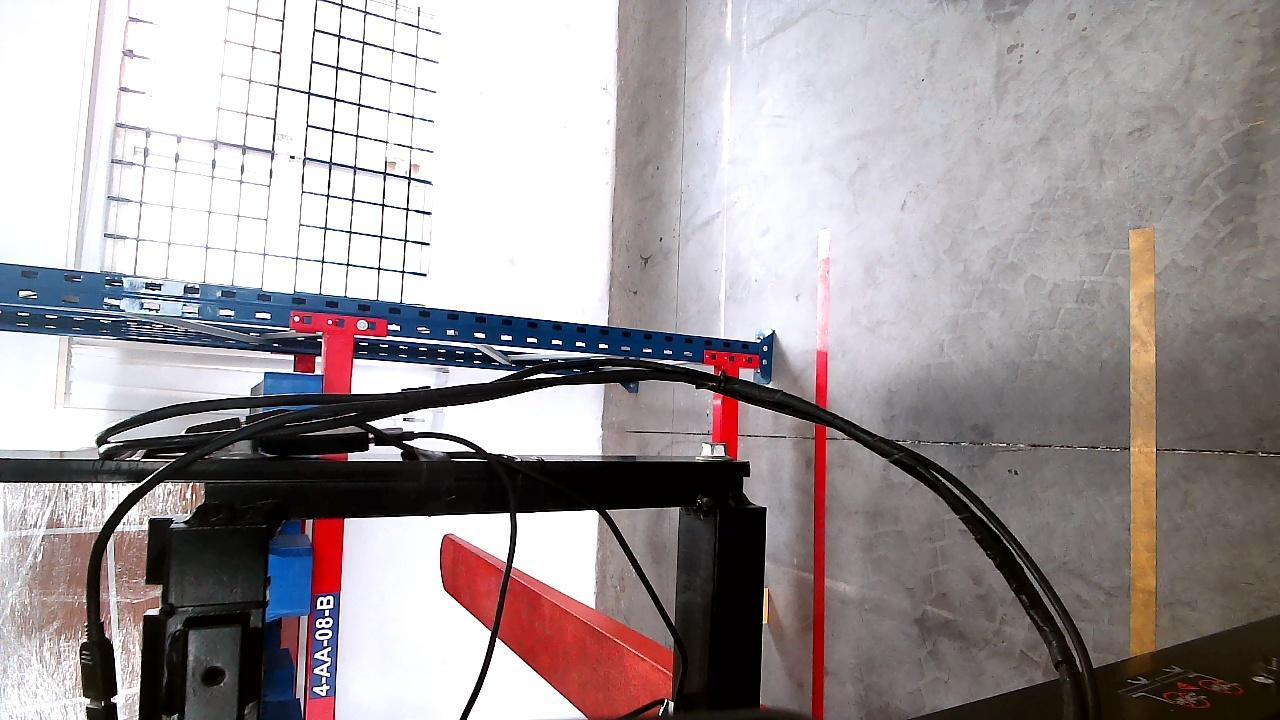red_line: (811, 227, 833, 719)
yellow_line: (1130, 222, 1159, 664)
